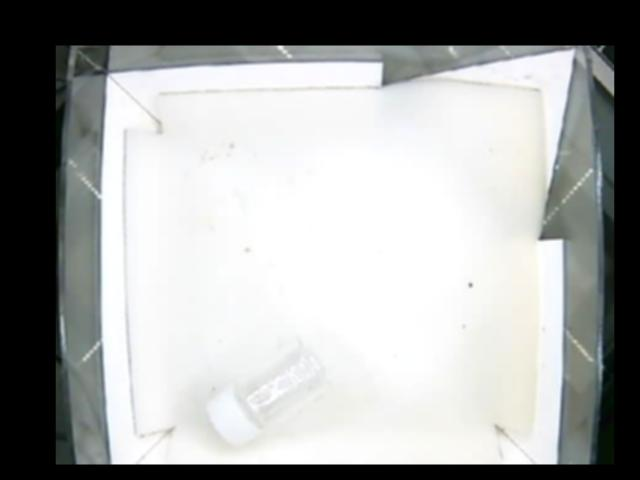Bottle: (204, 337, 325, 440)
